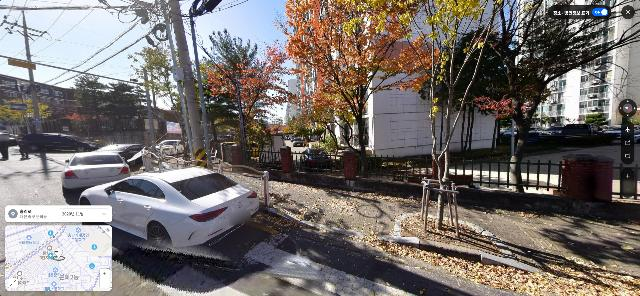ginkgo: (358, 0, 518, 229)
other: (454, 0, 639, 193), (284, 0, 436, 171), (196, 37, 297, 167), (193, 25, 264, 160), (128, 32, 188, 139)
